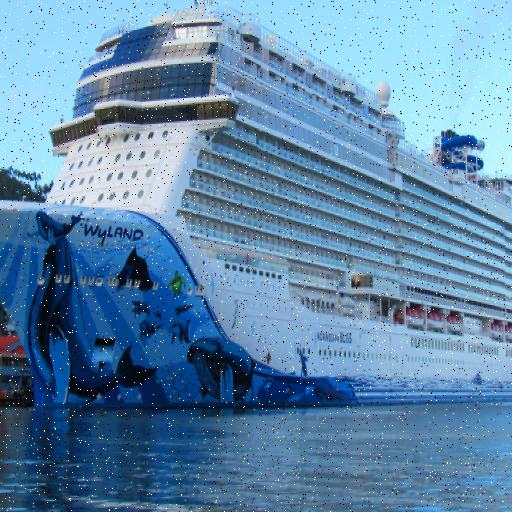cruises: (1, 1, 512, 426)
